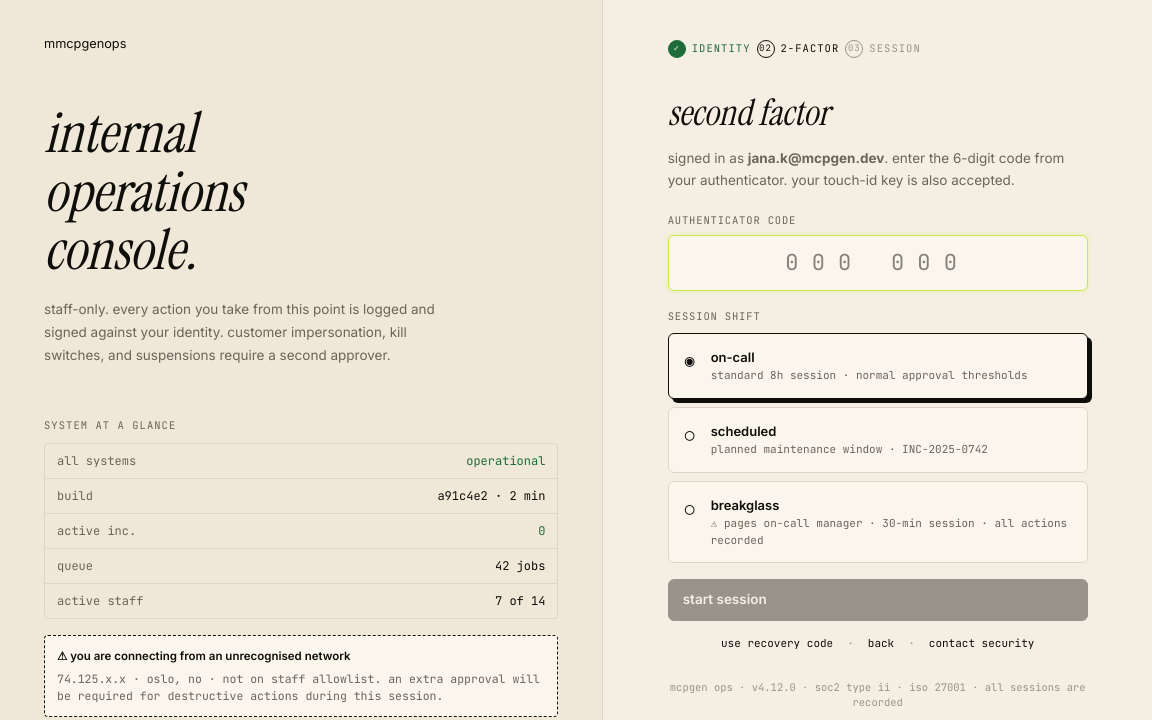
Test: <Login /> › validates the 6-digit code and reaches the success stage
Note: Sub-6-digit attempt → canon error message.
Type "123" into the field labelled "authenticator code" at (878, 263), box [668,235,1088,291]
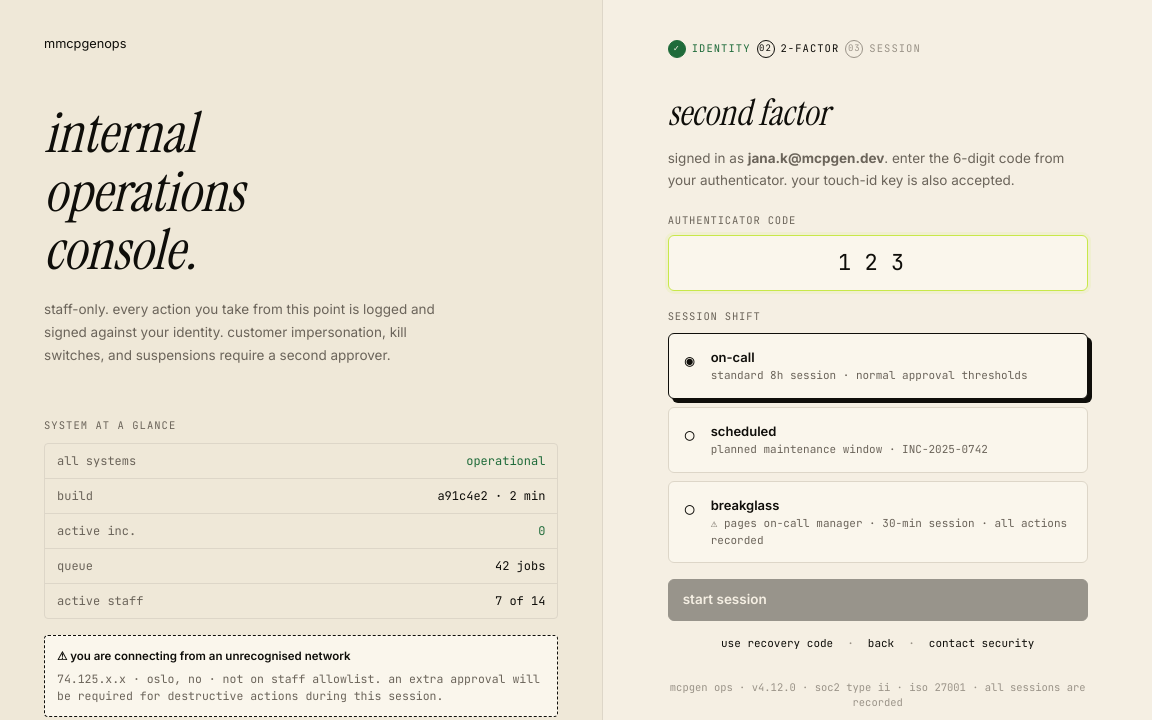
expect the button "start session" is disabled: met, box [668,579,1088,621]
Replace the text in the field labelled "authenticator code" with "123456" at (878, 263), box [668,235,1088,291]
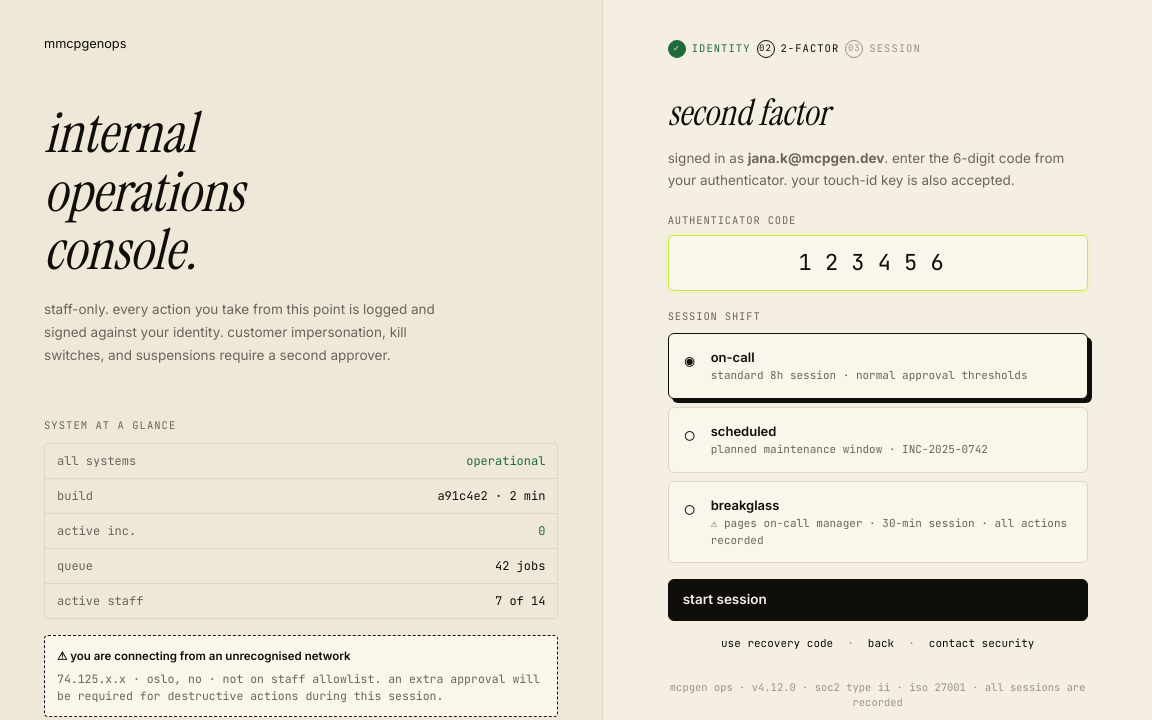
expect the button "start session" is enabled: met
Click the button "start session" at (725, 599), box [668,579,1088,621]
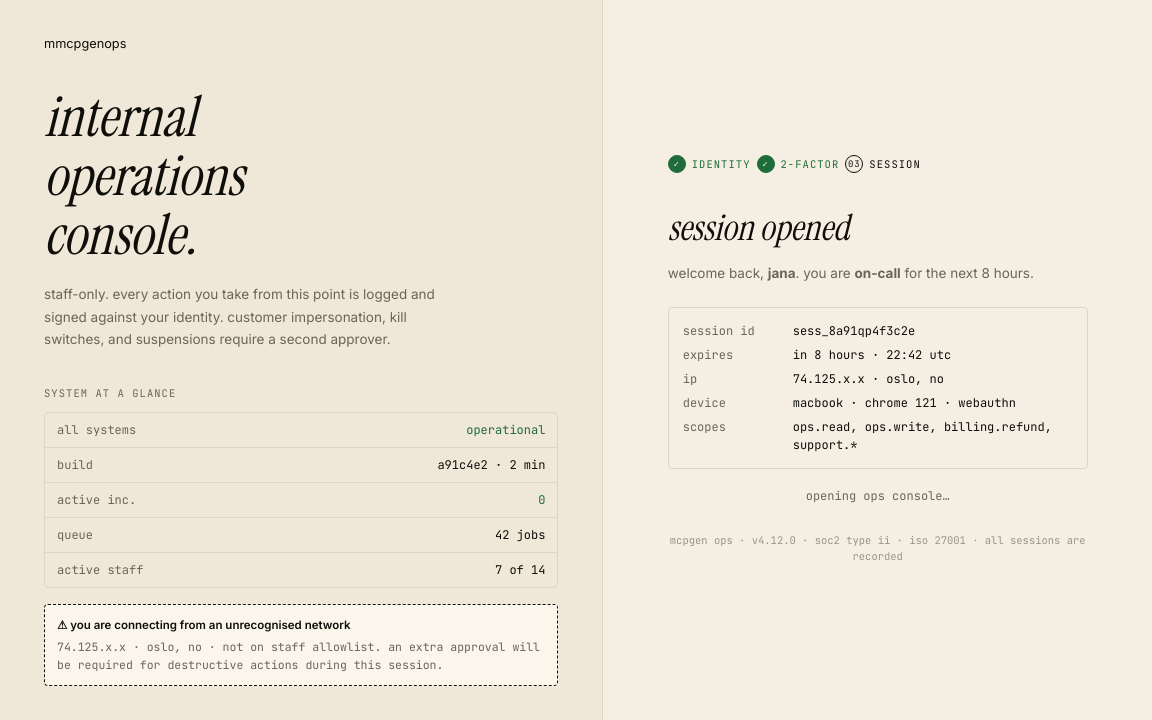
expect the heading "session opened" is shown: met, box [668,204,849,252]
